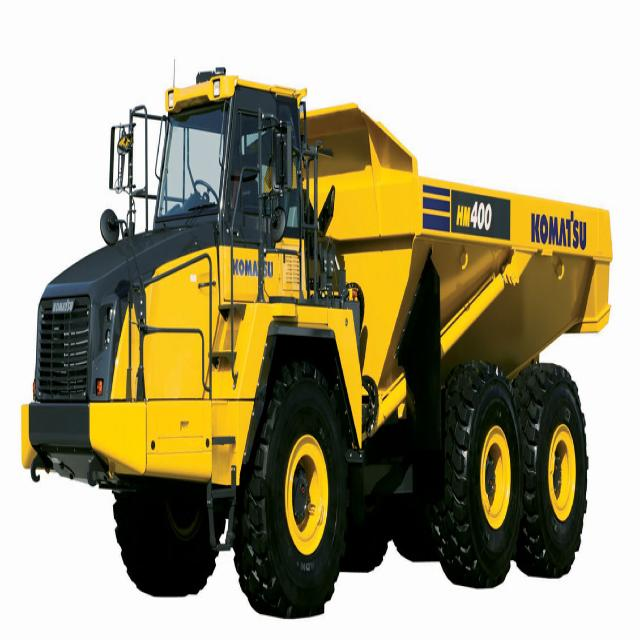dump_truck: (16, 61, 640, 617)
